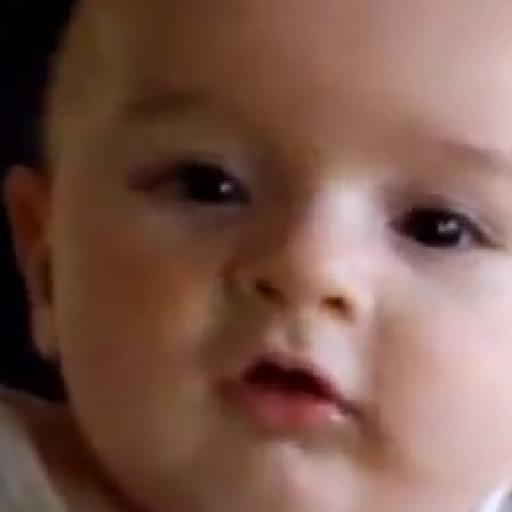Autism: (70, 6, 512, 512)
